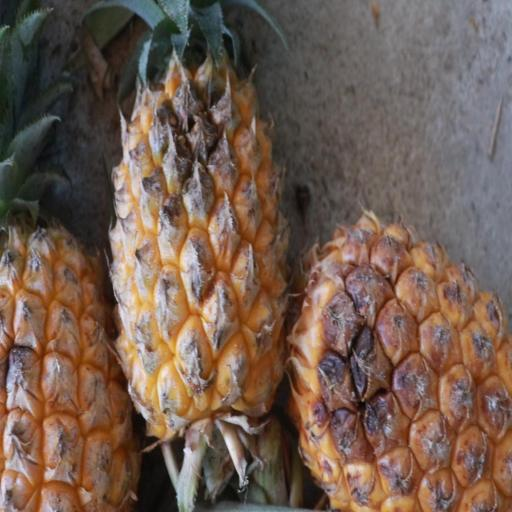Pineapple - v8 v1: (108, 0, 293, 450), (1, 0, 144, 512), (286, 220, 511, 512)
